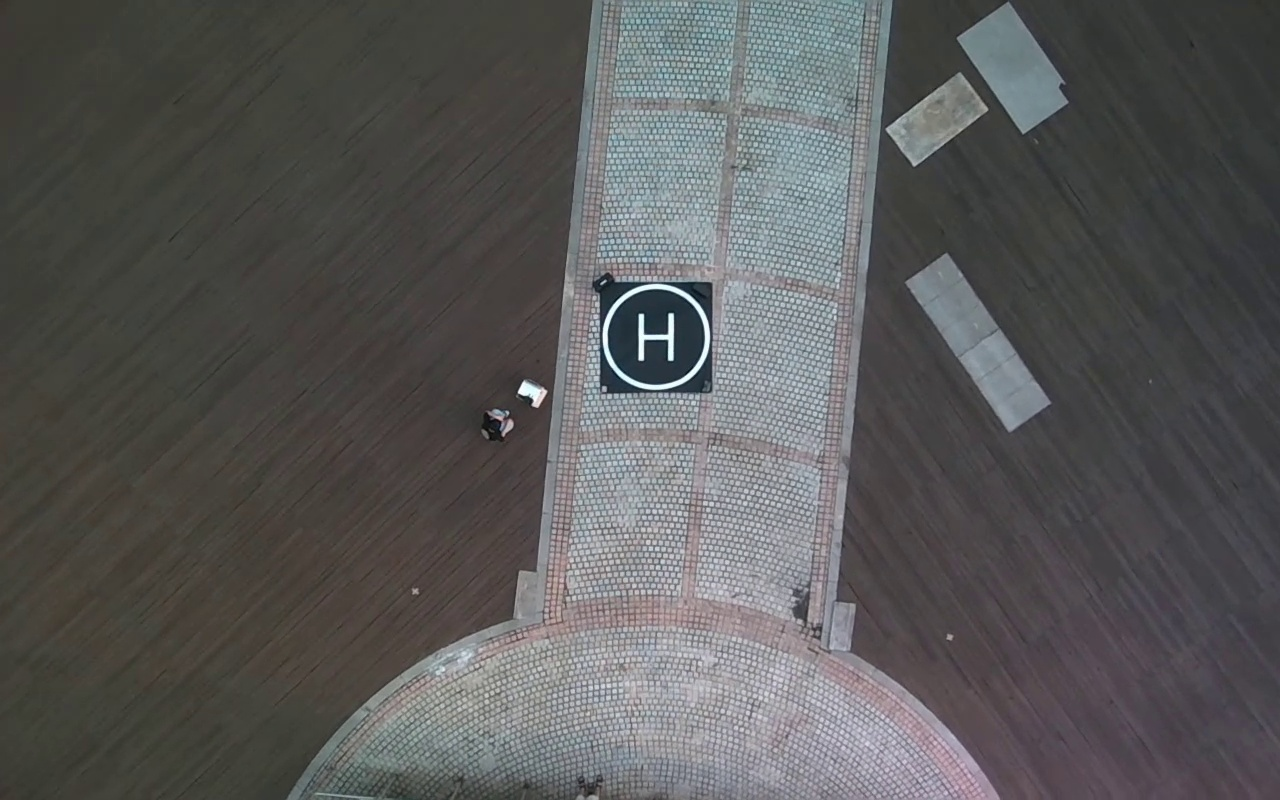H: (638, 310, 675, 363)
heliport: (602, 284, 712, 391)
